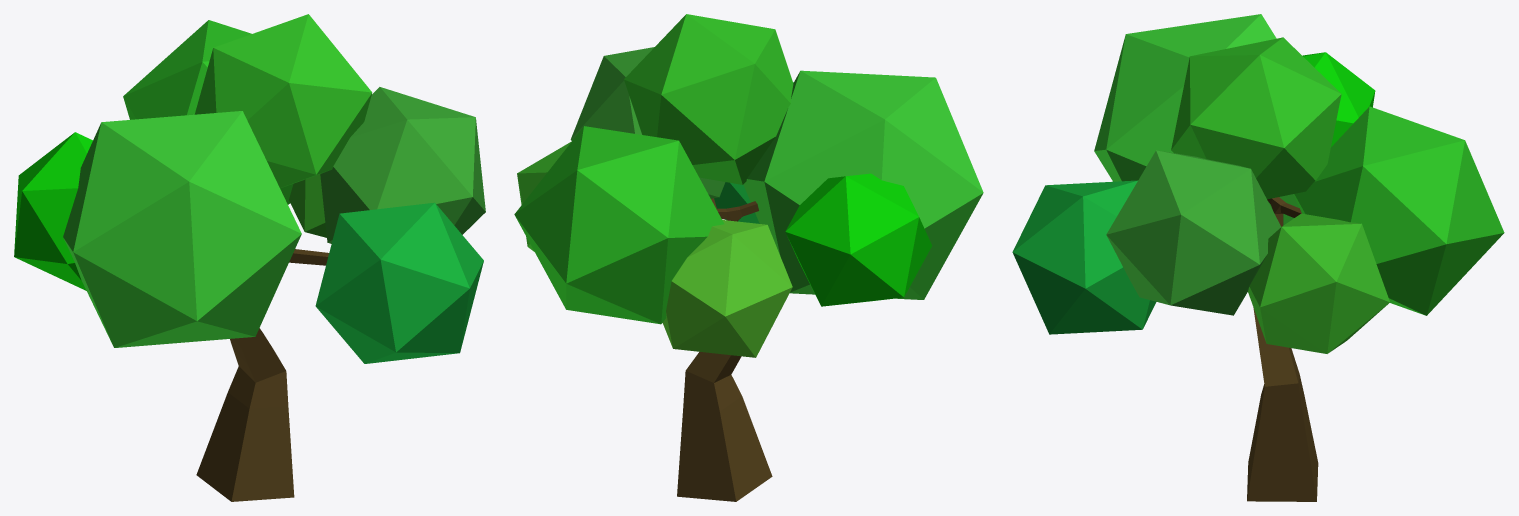
Rendered from Tree2.fbx.
3 views of the same model, side by side, from view 1: azimuth 30°, elevation 25°; view 2: azimuth 150°, elevation 25°; view 3: azimuth 270°, elevation 25° (orthographic). The views are drawn at different scales.
Parts seen in each view (by area): view 1: Icosphere.007, Icosphere.003, Icosphere.008, Icosphere.002, Cube, Icosphere.006, Icosphere.004, Icosphere.001; view 2: Icosphere.007, Icosphere.004, Icosphere.008, Icosphere.006, Icosphere.005, Cube, Icosphere.002, Icosphere.001, Icosphere.003; view 3: Icosphere.004, Icosphere.002, Icosphere.008, Icosphere.003, Icosphere.001, Icosphere.007, Cube, Icosphere.006.
Part boxes in pixels (box(x1,y1,x2,y2)): Icosphere.007: box(63, 111, 301, 347); Icosphere.003: box(315, 202, 483, 363); Icosphere.008: box(194, 14, 372, 188); Icosphere.002: box(320, 87, 485, 243); Cube: box(196, 249, 329, 501); Icosphere.006: box(14, 132, 92, 290); Icosphere.004: box(123, 20, 293, 204); Icosphere.001: box(289, 174, 326, 237); Icosphere.007: box(743, 70, 983, 299); Icosphere.004: box(514, 126, 724, 324); Icosphere.008: box(624, 14, 793, 184); Icosphere.006: box(785, 173, 931, 306); Icosphere.005: box(662, 220, 792, 357); Cube: box(677, 198, 772, 501); Icosphere.002: box(570, 47, 725, 198); Icosphere.001: box(517, 141, 571, 251); Icosphere.003: box(714, 82, 793, 223); Icosphere.004: box(1294, 106, 1504, 315); Icosphere.002: box(1106, 150, 1280, 315); Icosphere.008: box(1171, 37, 1341, 199); Icosphere.003: box(1012, 180, 1156, 334); Icosphere.001: box(1248, 213, 1389, 353); Icosphere.007: box(1094, 14, 1299, 225); Cube: box(1247, 197, 1318, 501); Icosphere.006: box(1302, 52, 1375, 146).
Bounding box in the file's own units: 10.05 × 11.17 × 10.91.
